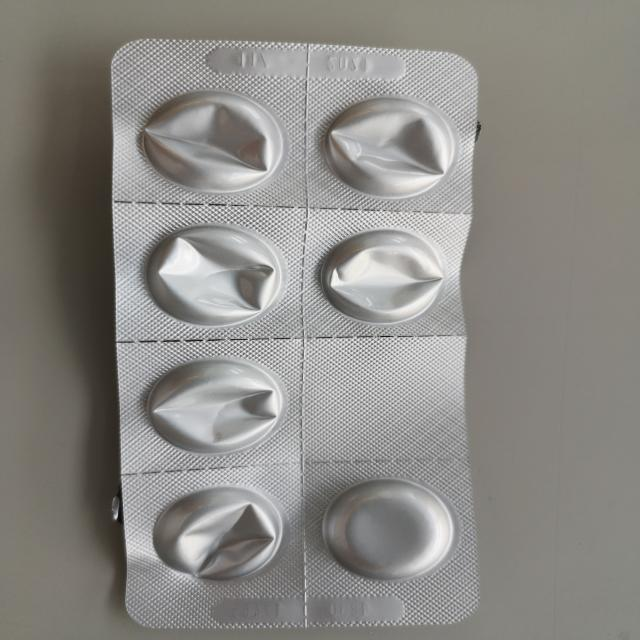Empty: (318, 90, 459, 201), (136, 87, 283, 192), (142, 221, 282, 330), (141, 356, 288, 458), (147, 482, 287, 584), (316, 228, 448, 326)
Pill: (319, 476, 456, 584)
